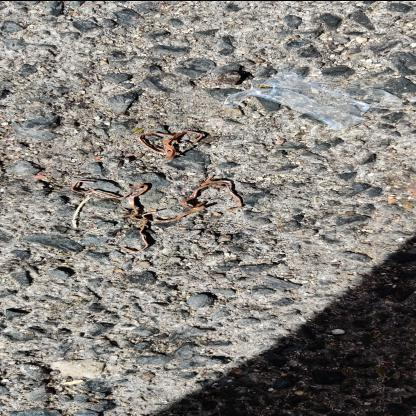plastik: (223, 71, 405, 130)
